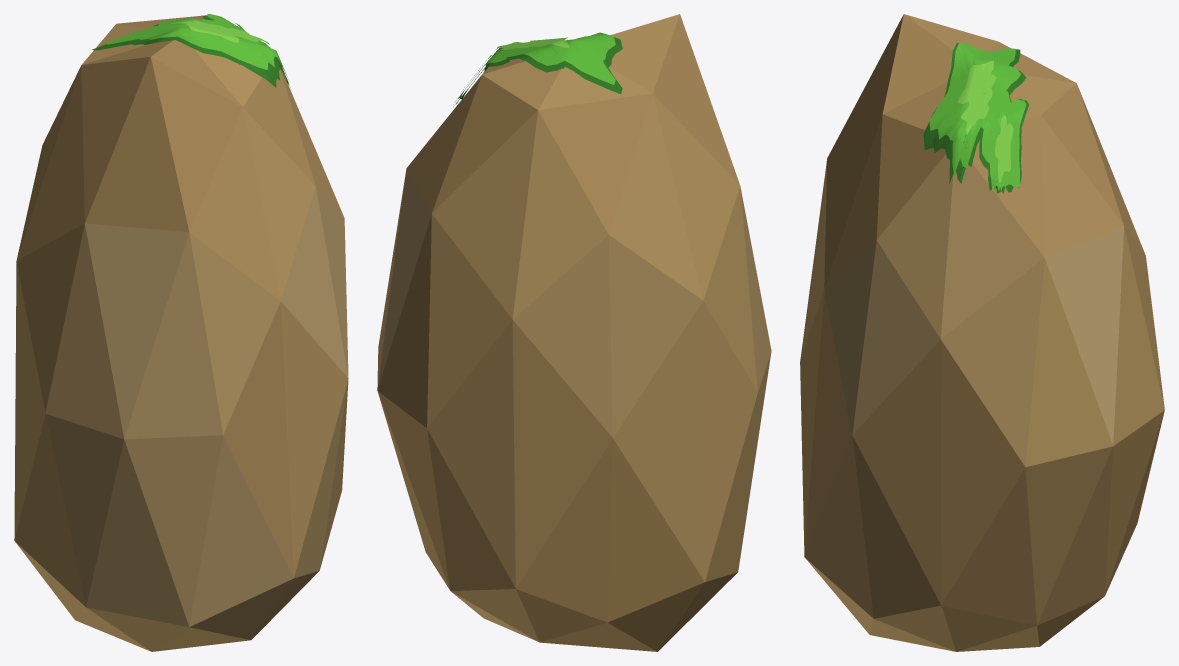
Rendered from rock_3_streak.glb.
3 views of the same model, side by side, from view 1: azimuth 30°, elevation 25°; view 2: azimuth 150°, elevation 25°; view 3: azimuth 270°, elevation 25° (orthographic). The views are drawn at different scales.
Visible parts, largest first — view 1: rock_3_streak; view 2: rock_3_streak; view 3: rock_3_streak.
Part boxes in pixels (x1,y1,x2,y2): rock_3_streak: (14,14,348,651); rock_3_streak: (377,14,771,651); rock_3_streak: (800,14,1164,651).
Size of the model in its own units: 1.15 by 2.02 by 1.12.
